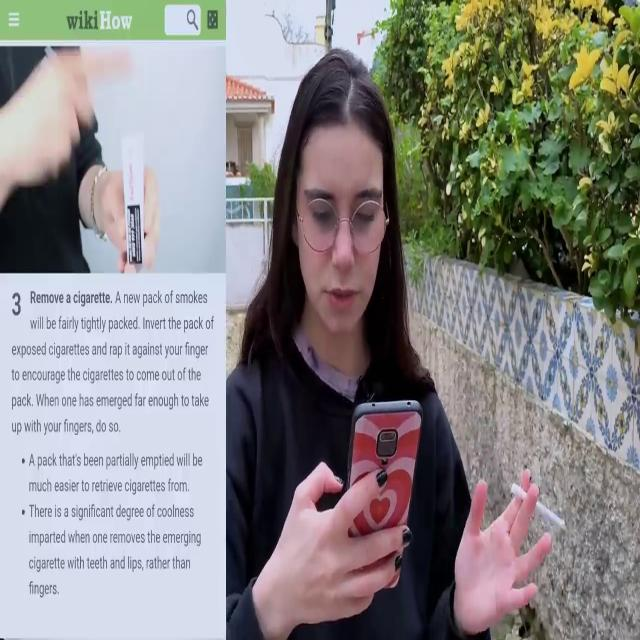Smooking: (507, 466, 572, 542)
